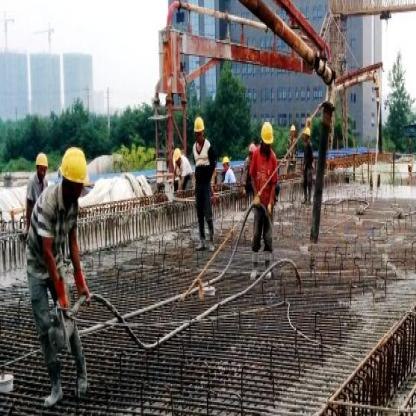helmet: (59, 143, 90, 202), (259, 118, 277, 155), (34, 151, 48, 180), (192, 111, 204, 144), (221, 151, 234, 175), (173, 144, 183, 168), (248, 139, 258, 161), (302, 124, 312, 146)
